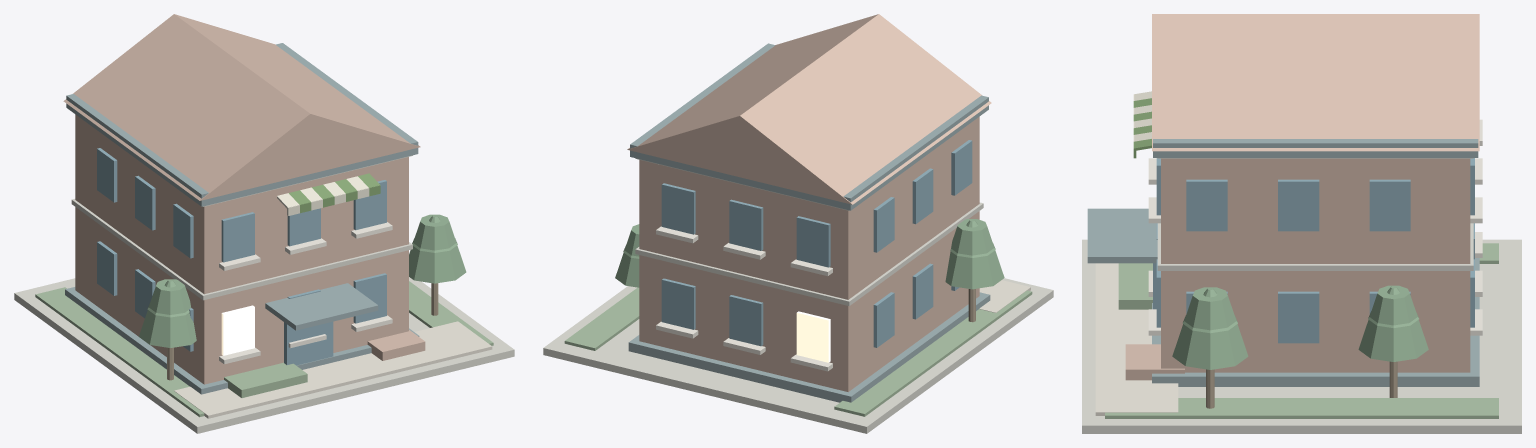
The model's file is remaster_house_19.glb.
3 views of the same model, side by side, from view 1: azimuth 30°, elevation 25°; view 2: azimuth 150°, elevation 25°; view 3: azimuth 270°, elevation 25° (orthographic). The views are drawn at different scales.
Parts seen in each view (by area): view 1: remaster_house_19 brick, remaster_house_19 stone, remaster_house_19 glass, remaster_house_19 roof, remaster_house_19 cream, remaster_house_19 green, remaster_house_19 leaf, remaster_house_19 white, remaster_house_19 warm, remaster_house_19 bark; view 2: remaster_house_19 brick, remaster_house_19 stone, remaster_house_19 glass, remaster_house_19 roof, remaster_house_19 green, remaster_house_19 leaf, remaster_house_19 white, remaster_house_19 warm, remaster_house_19 cream; view 3: remaster_house_19 brick, remaster_house_19 stone, remaster_house_19 roof, remaster_house_19 glass, remaster_house_19 green, remaster_house_19 leaf, remaster_house_19 cream, remaster_house_19 white, remaster_house_19 bark.
Boxes of the visible parts, box(x1,y1,x2,y2) form: remaster_house_19 brick: box(63, 14, 425, 384); remaster_house_19 stone: box(14, 155, 514, 433); remaster_house_19 glass: box(97, 148, 386, 365); remaster_house_19 roof: box(65, 43, 419, 394); remaster_house_19 cream: box(174, 321, 492, 418); remaster_house_19 green: box(35, 281, 493, 417); remaster_house_19 leaf: box(139, 214, 466, 347); remaster_house_19 white: box(219, 222, 392, 364); remaster_house_19 warm: box(221, 305, 254, 355); remaster_house_19 bark: box(167, 283, 438, 380); remaster_house_19 brick: box(627, 14, 991, 391); remaster_house_19 stone: box(543, 158, 1053, 433); remaster_house_19 glass: box(661, 140, 972, 347); remaster_house_19 roof: box(628, 43, 990, 402); remaster_house_19 green: box(564, 287, 1032, 416); remaster_house_19 leaf: box(615, 219, 1004, 289); remaster_house_19 white: box(656, 226, 832, 371); remaster_house_19 warm: box(796, 311, 830, 362); remaster_house_19 cream: box(979, 280, 1030, 312); remaster_house_19 brick: box(1125, 14, 1479, 380); remaster_house_19 stone: box(1082, 158, 1521, 433); remaster_house_19 roof: box(1087, 139, 1479, 386); remaster_house_19 glass: box(1153, 158, 1474, 343); remaster_house_19 green: box(1105, 243, 1498, 418); remaster_house_19 leaf: box(1172, 285, 1428, 369); remaster_house_19 cream: box(1095, 263, 1178, 415); remaster_house_19 white: box(1148, 119, 1482, 335); remaster_house_19 bark: box(1206, 361, 1397, 408).
Size of the model in its own units: 9.64 by 7.64 by 9.6.
